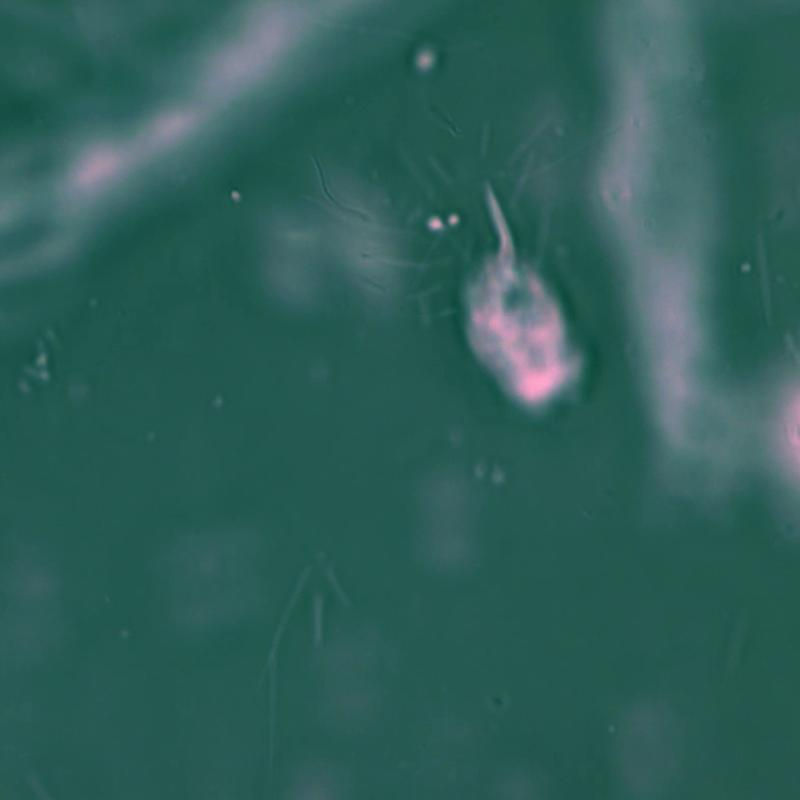depth:80: (420, 126, 613, 482)
